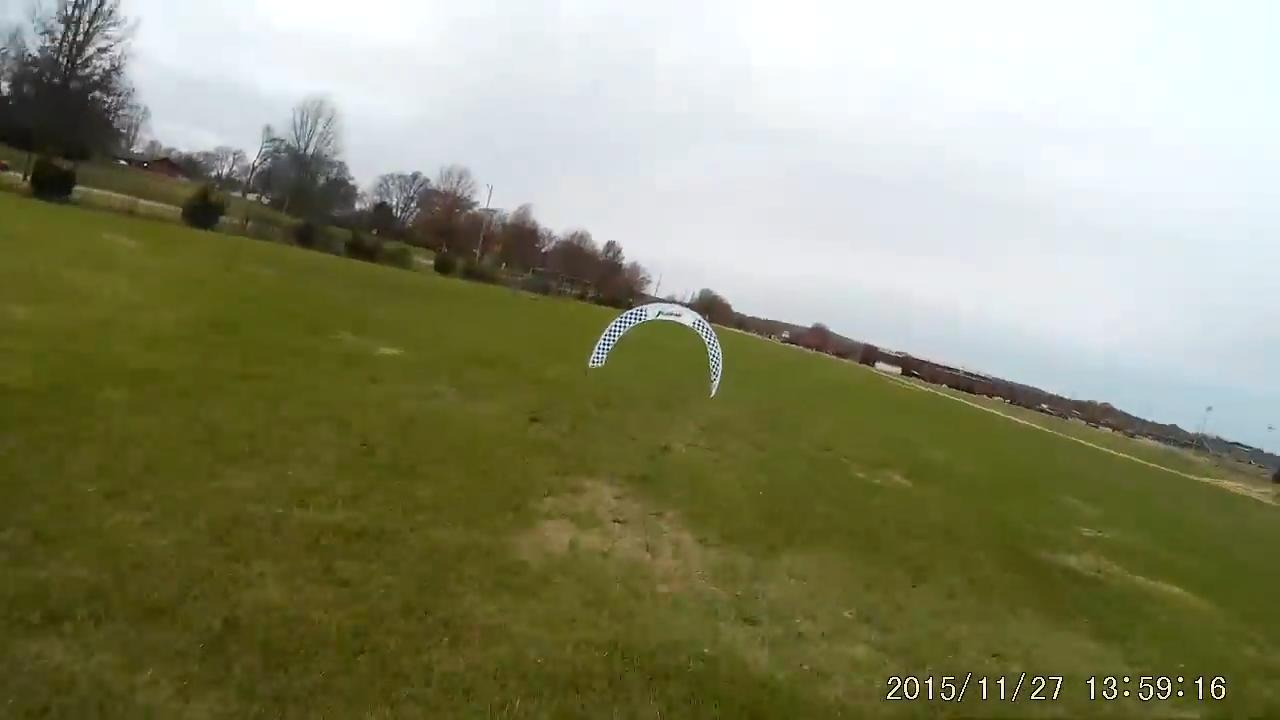gate: (585, 296, 722, 403)
